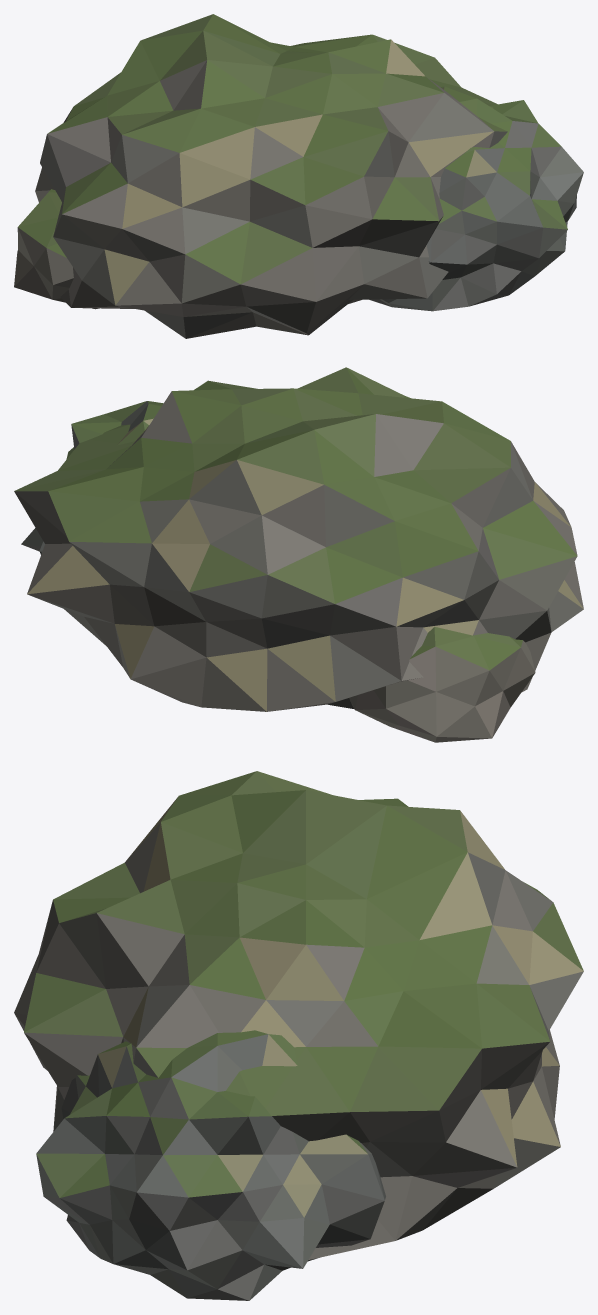
The model's file is Rock.glb.
3 renders of one model, top to bottom at view 1: azimuth 30°, elevation 25°; view 2: azimuth 150°, elevation 25°; view 3: azimuth 270°, elevation 25°, orthographic. The views are drawn at different scales.
Parts seen in each view (by area): view 1: Mat_Stone_73726a, Mat_Leaves_607148, Mat_Leaves_5d6f45, Mat_Stone_54534f, Mat_Leaves_5b6e43; view 2: Mat_Stone_73726a, Mat_Leaves_607148, Mat_Leaves_5d6f45, Mat_Stone_54534f, Mat_Leaves_5b6e43; view 3: Mat_Stone_73726a, Mat_Leaves_5d6f45, Mat_Leaves_607148, Mat_Stone_54534f, Mat_Leaves_5b6e43.
Boxes of the visible parts, <box> form: Mat_Stone_73726a: <box>14,39,583,338</box>; Mat_Leaves_607148: <box>18,14,507,283</box>; Mat_Leaves_5d6f45: <box>47,15,567,284</box>; Mat_Stone_54534f: <box>34,163,573,338</box>; Mat_Leaves_5b6e43: <box>48,14,567,229</box>; Mat_Stone_73726a: <box>21,391,583,742</box>; Mat_Leaves_607148: <box>14,368,576,670</box>; Mat_Leaves_5d6f45: <box>15,367,576,658</box>; Mat_Stone_54534f: <box>14,491,551,742</box>; Mat_Leaves_5b6e43: <box>50,381,478,577</box>; Mat_Stone_73726a: <box>14,797,583,1300</box>; Mat_Leaves_5d6f45: <box>24,790,583,1197</box>; Mat_Leaves_607148: <box>24,771,550,1110</box>; Mat_Stone_54534f: <box>15,1014,549,1300</box>; Mat_Leaves_5b6e43: <box>53,798,492,1197</box>.
Size of the model in its own units: 8.65 by 3.93 by 6.44.
1 material, 1 textured.
